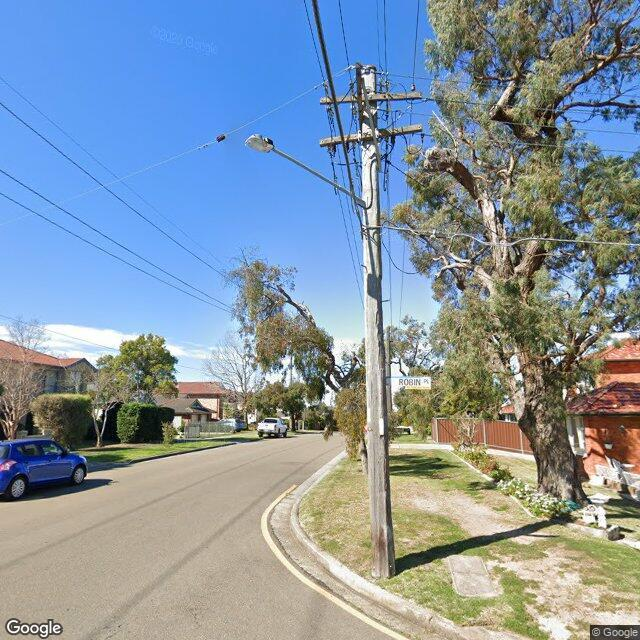crossarm: (320, 123, 422, 147), (319, 91, 424, 105), (356, 62, 362, 132)
streetlight: (245, 132, 366, 208)
timber-pole: (358, 64, 396, 579)
